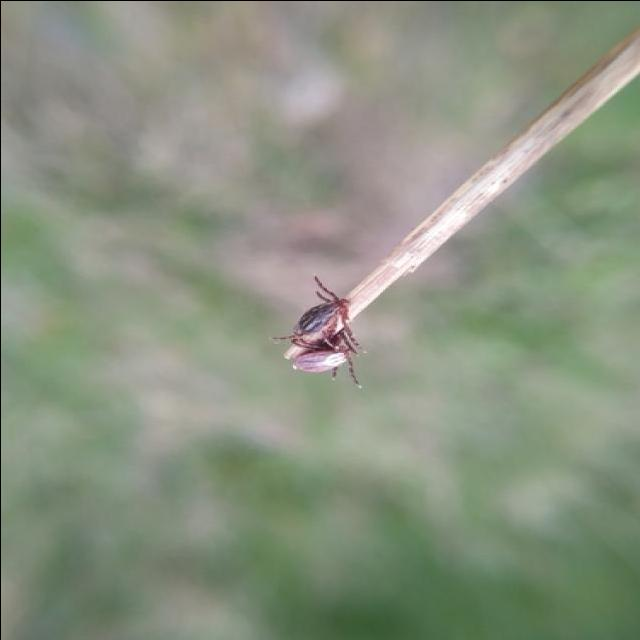Dermacentor Reticulatus-F: (283, 343, 358, 384)
Dermacentor Reticulatus-M: (283, 276, 357, 351)
